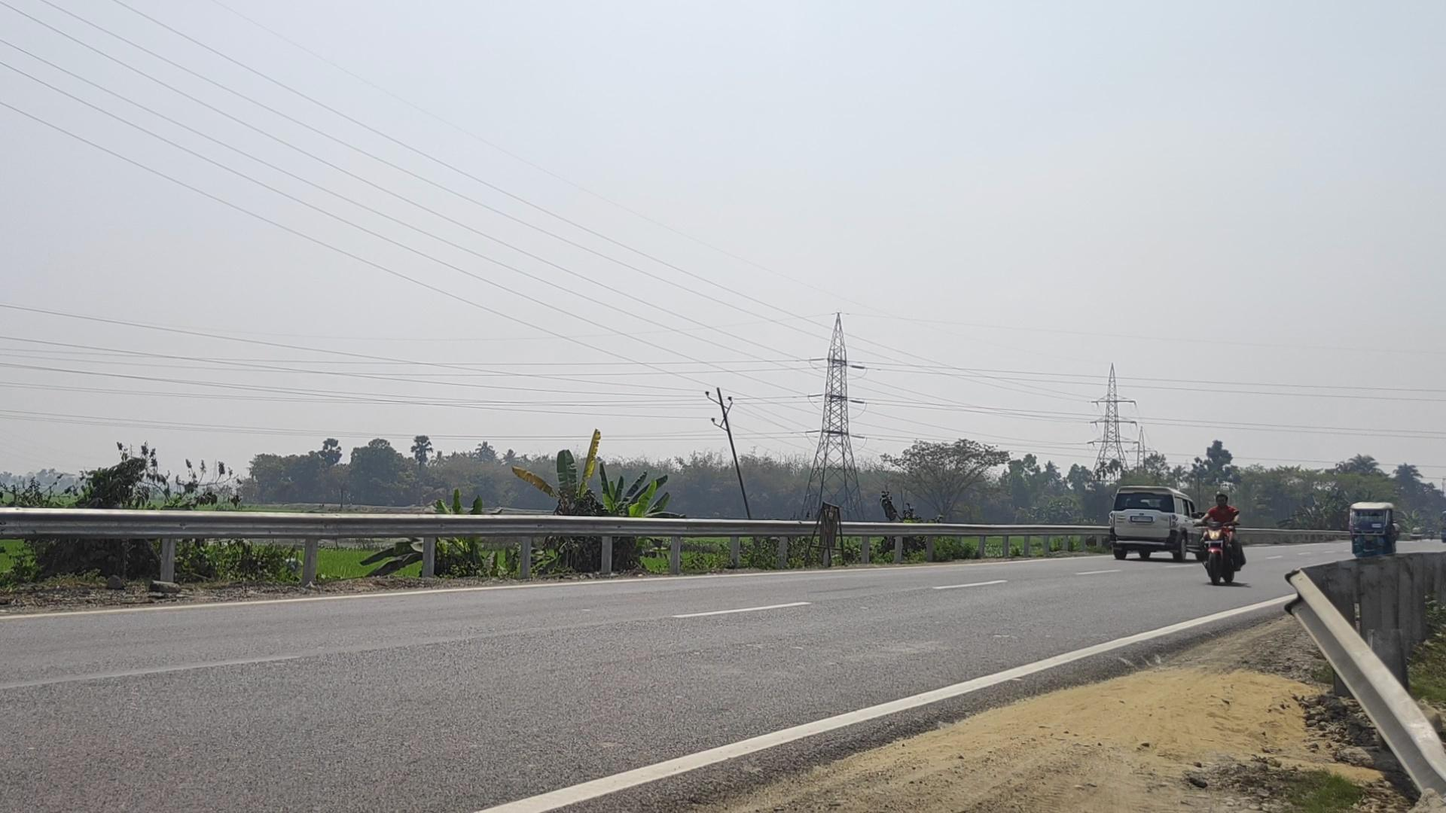Auto: (1348, 501, 1399, 568)
bike: (1191, 494, 1247, 586)
car: (1109, 486, 1212, 563)
